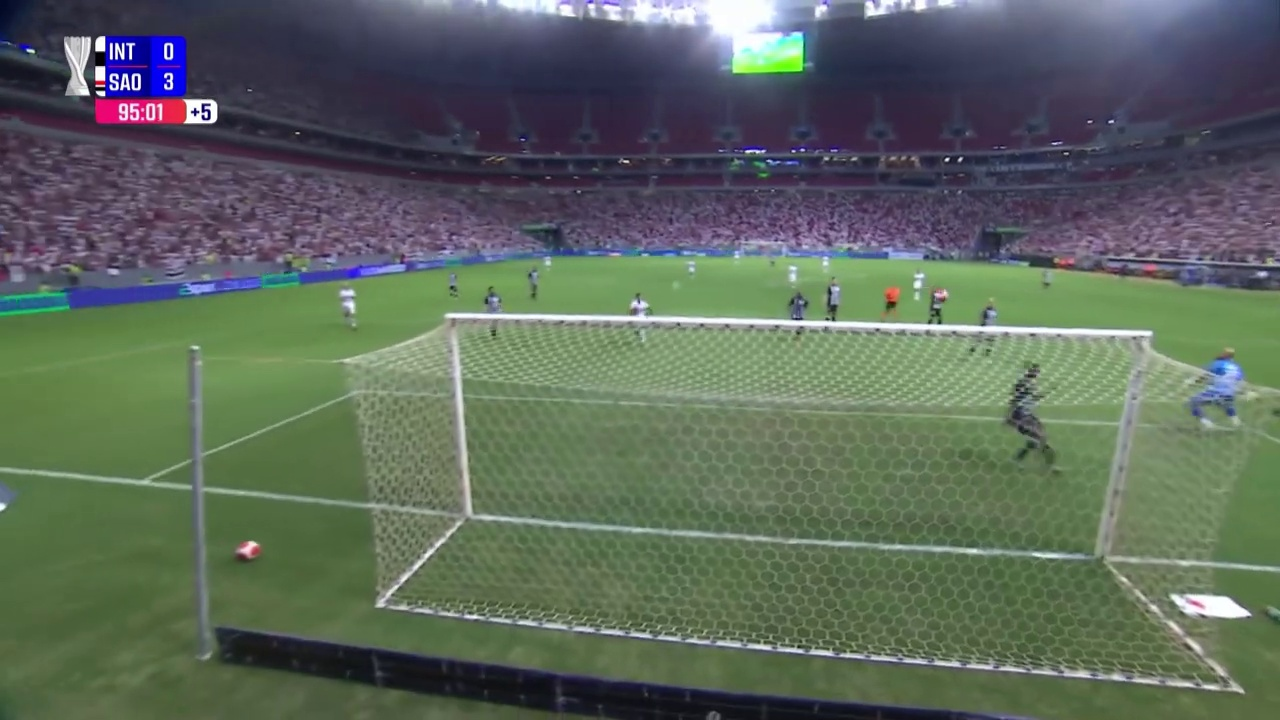ball: (86, 504, 131, 547)
